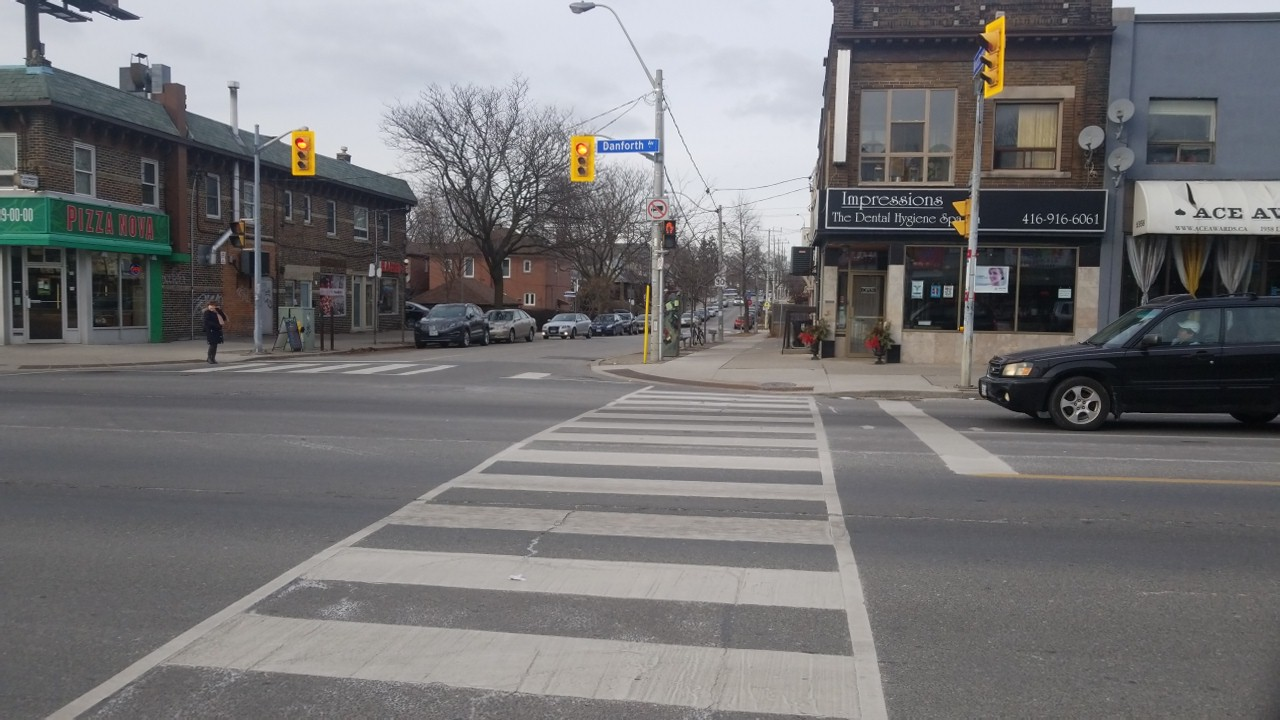light: (659, 217, 677, 250)
